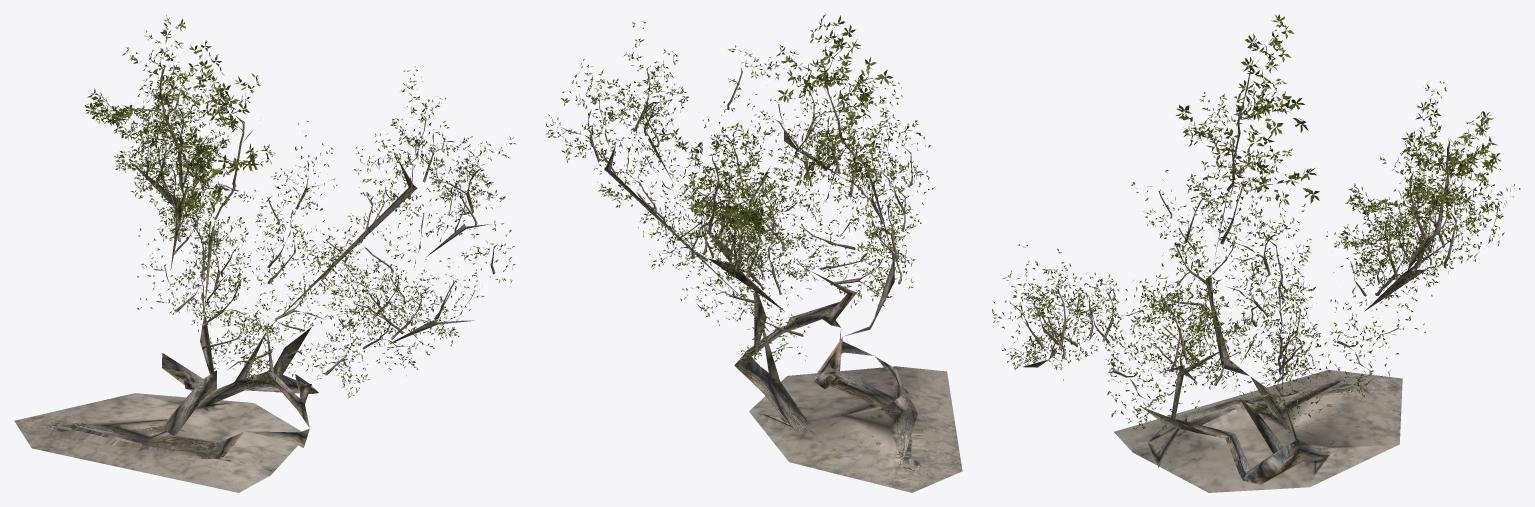
The model's file is island_tree_03_lod1.glb.
The picture shows the model from 3 angles, left to right: view 1: azimuth 30°, elevation 25°; view 2: azimuth 150°, elevation 25°; view 3: azimuth 270°, elevation 25°; orthographic projection. The views are drawn at different scales.
Parts seen in each view (by area): view 1: island_tree_03_LOD0; view 2: island_tree_03_LOD0; view 3: island_tree_03_LOD0.
Part boxes in pixels (x1,y1,x2,y2): island_tree_03_LOD0: (14,15,516,492); island_tree_03_LOD0: (545,14,962,492); island_tree_03_LOD0: (992,14,1520,492).
Size of the model in its own units: 2.95 by 2.61 by 2.88.
3 materials, 3 textured.
